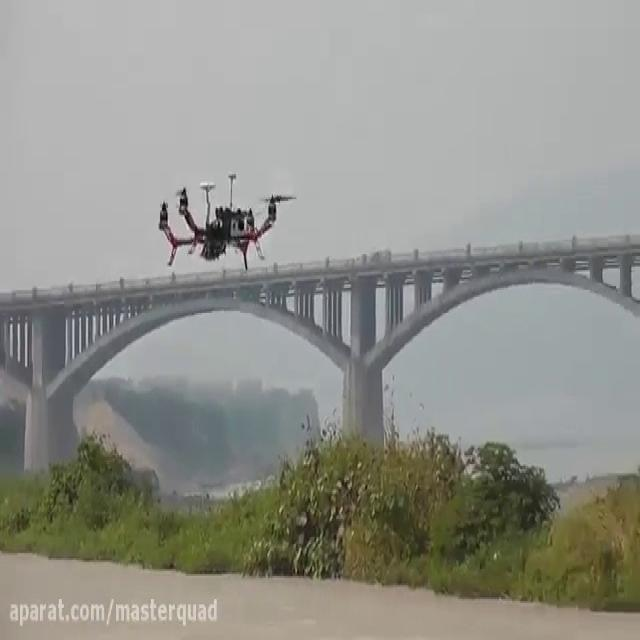drone: (150, 167, 301, 269)
